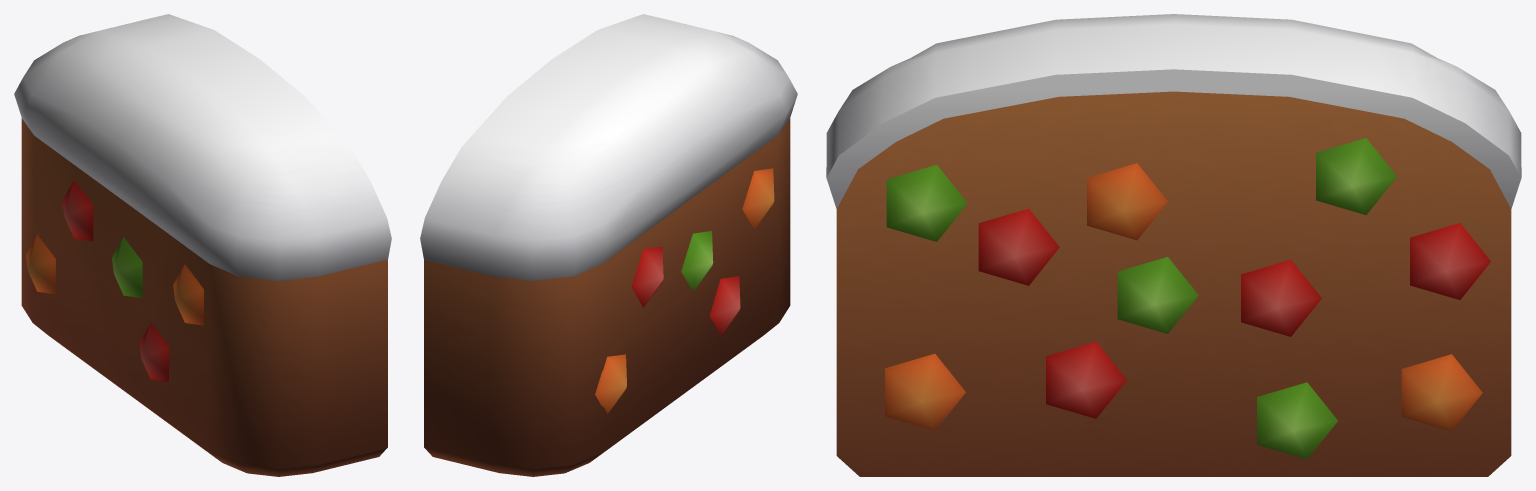
The model's file is m_FruitCake01_Slice01.fbx.
3 views of the same model, side by side, from view 1: azimuth 30°, elevation 25°; view 2: azimuth 150°, elevation 25°; view 3: azimuth 270°, elevation 25° (orthographic). The views are drawn at different scales.
Parts seen in each view (by area): view 1: m_FruitCake01_Slice01; view 2: m_FruitCake01_Slice01; view 3: m_FruitCake01_Slice01.
Part boxes in pixels (left/top/right/bottom): m_FruitCake01_Slice01: left=14, top=14, right=391, bottom=476; m_FruitCake01_Slice01: left=420, top=14, right=797, bottom=476; m_FruitCake01_Slice01: left=826, top=14, right=1521, bottom=476.
Size of the model in its own units: 6.04 by 10.67 by 16.48.
